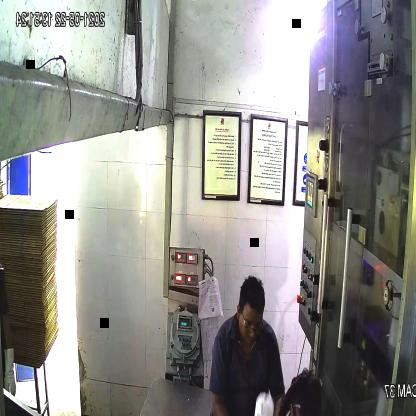goggles: (240, 315, 266, 338)
